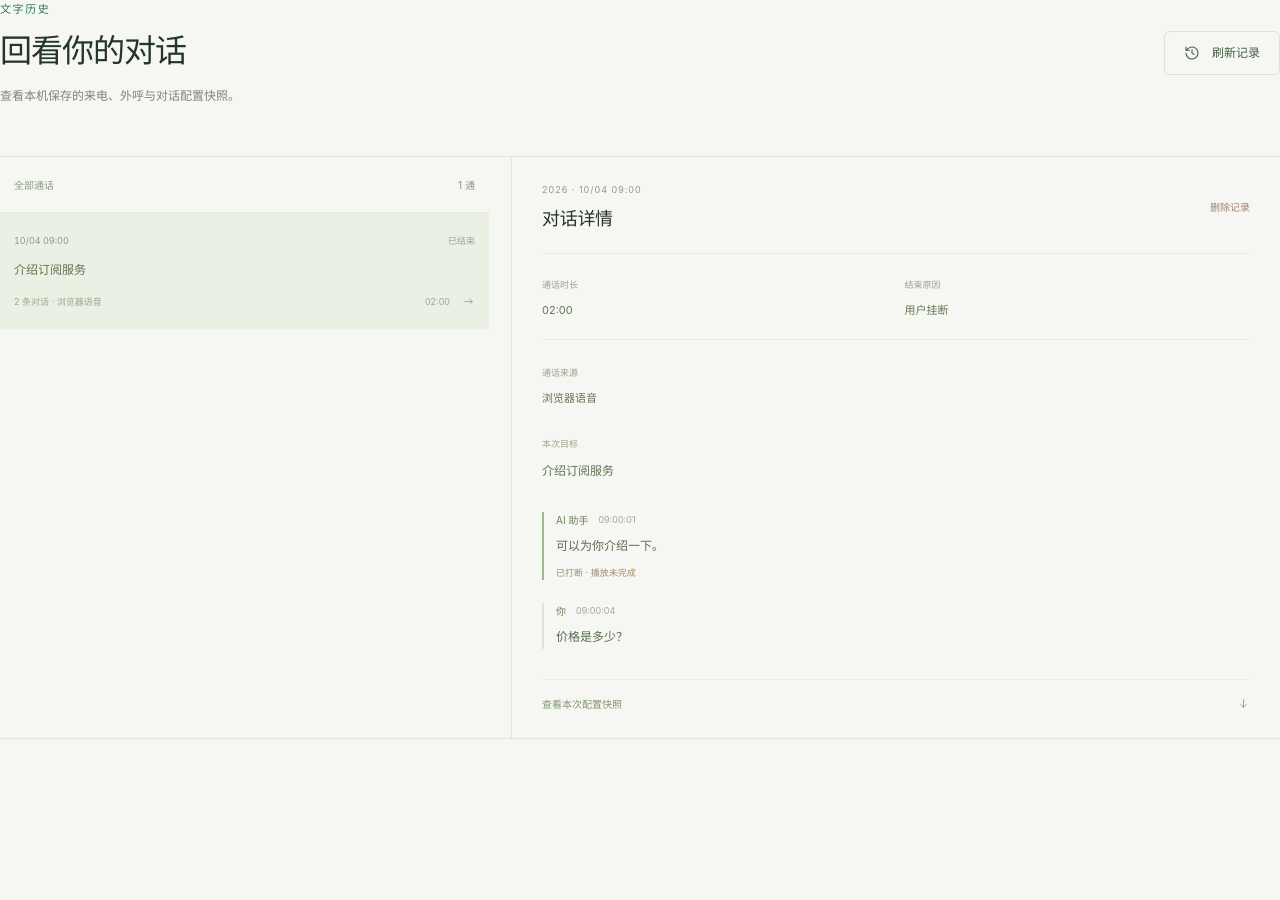
Scenario: 本机文字历史 › 确认框可以取消，取消不发删除请求
This screenshot has width=1280, height=900.
Expected: the text "价格是多少？" is shown, [556,629,628,644]
Click the button "删除记录" at (1230, 207), box [1210,194,1250,219]
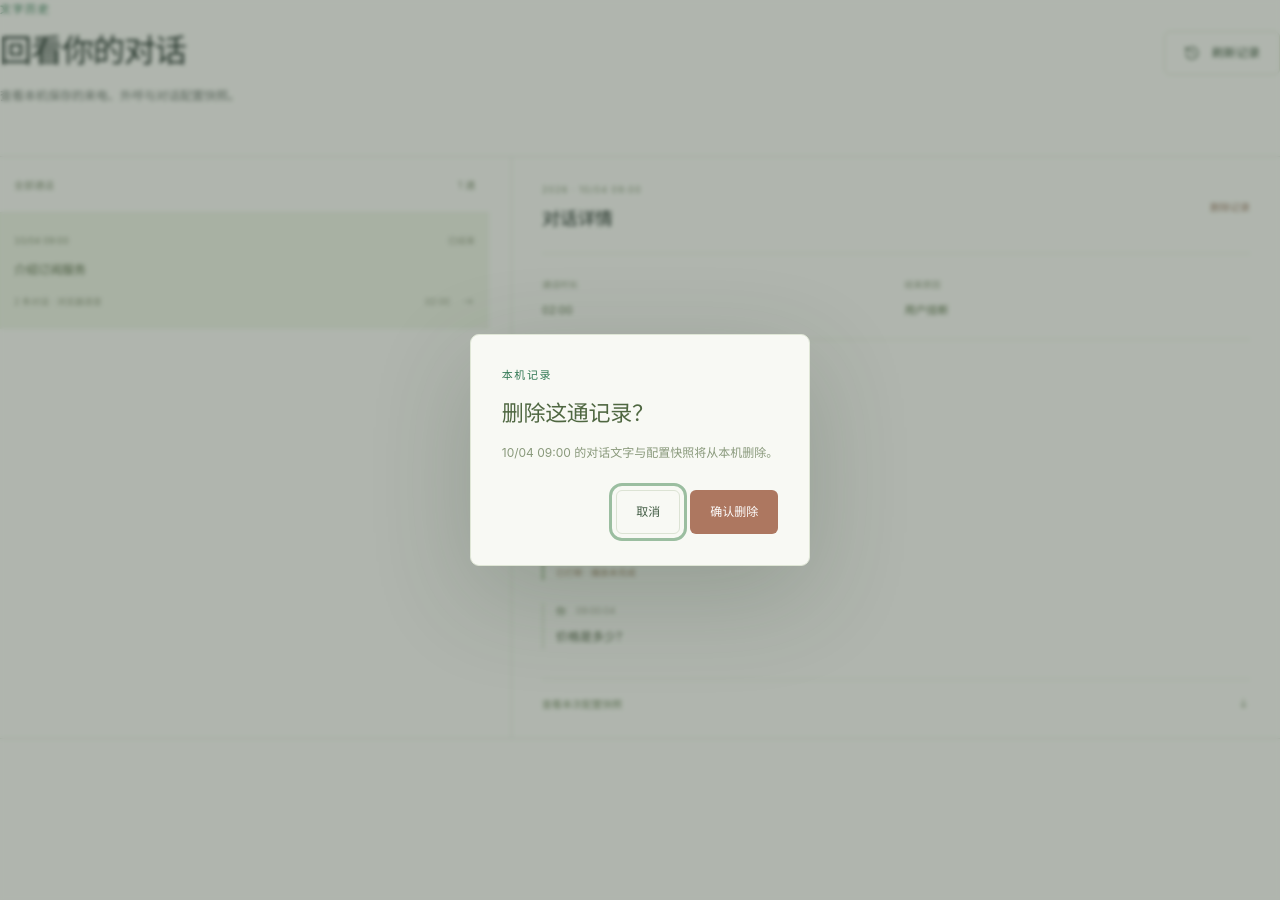
Expected: the dialog "删除这通记录？" is shown, [470,334,810,566]
Click the button "取消" at (648, 512), box [616,490,680,534]
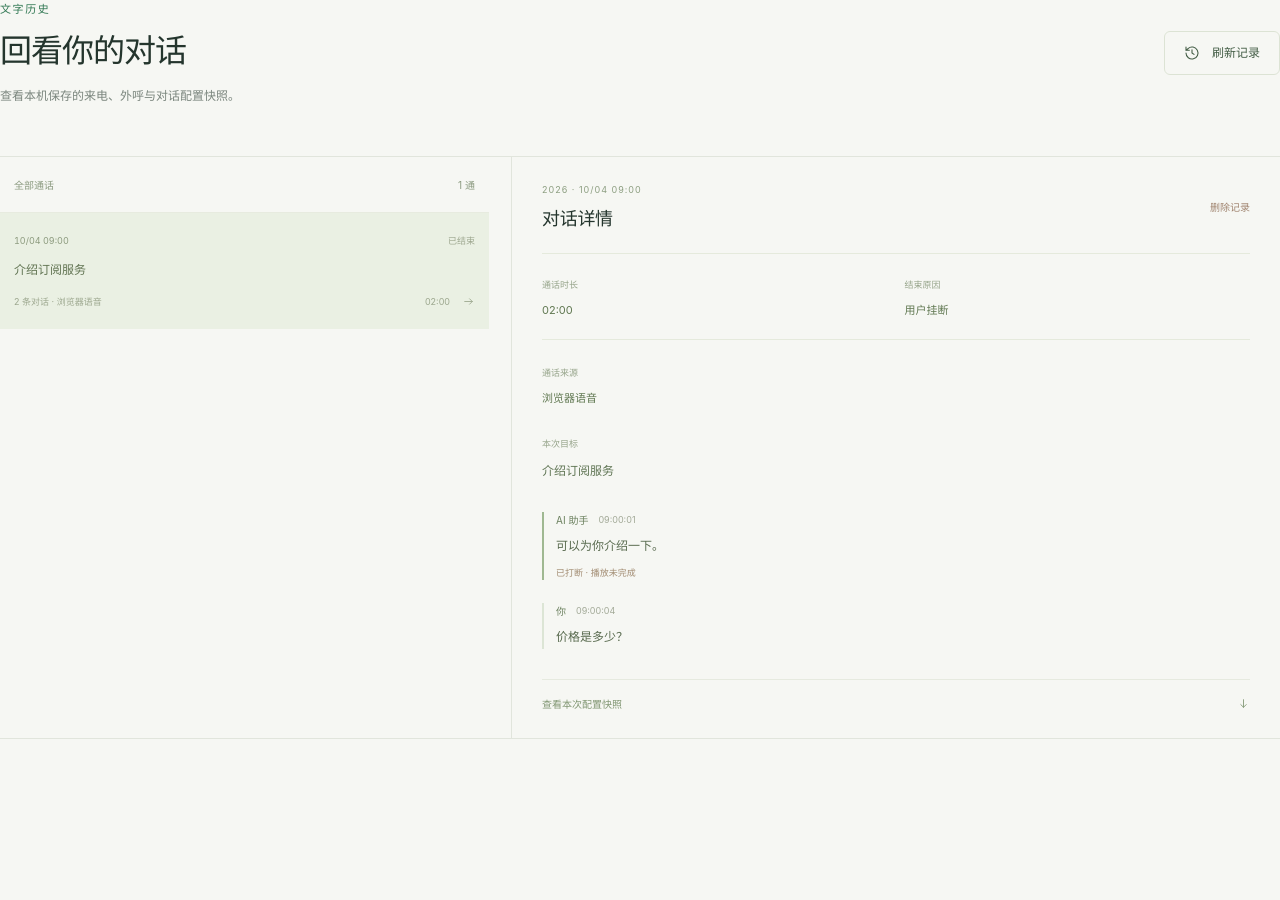
Expected: the text "价格是多少？" is shown, [556,629,628,644]
Expected: the dialog is gone
